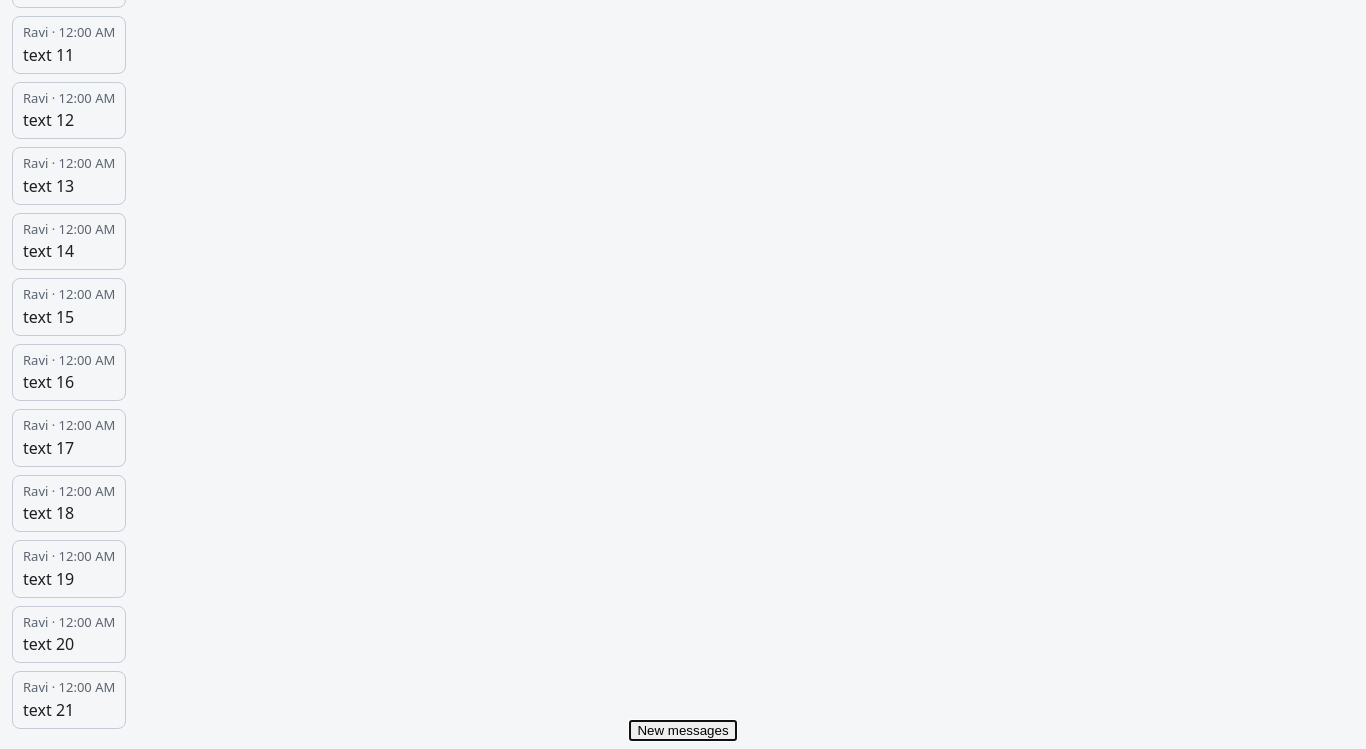
MessageList: new messages › goes to the bottom and moves the focus to the list when New messages is pressed
(page scrolled)
Click the button "New messages". click: (683, 730)
box: [629,720,736,740]
(page scrolled)
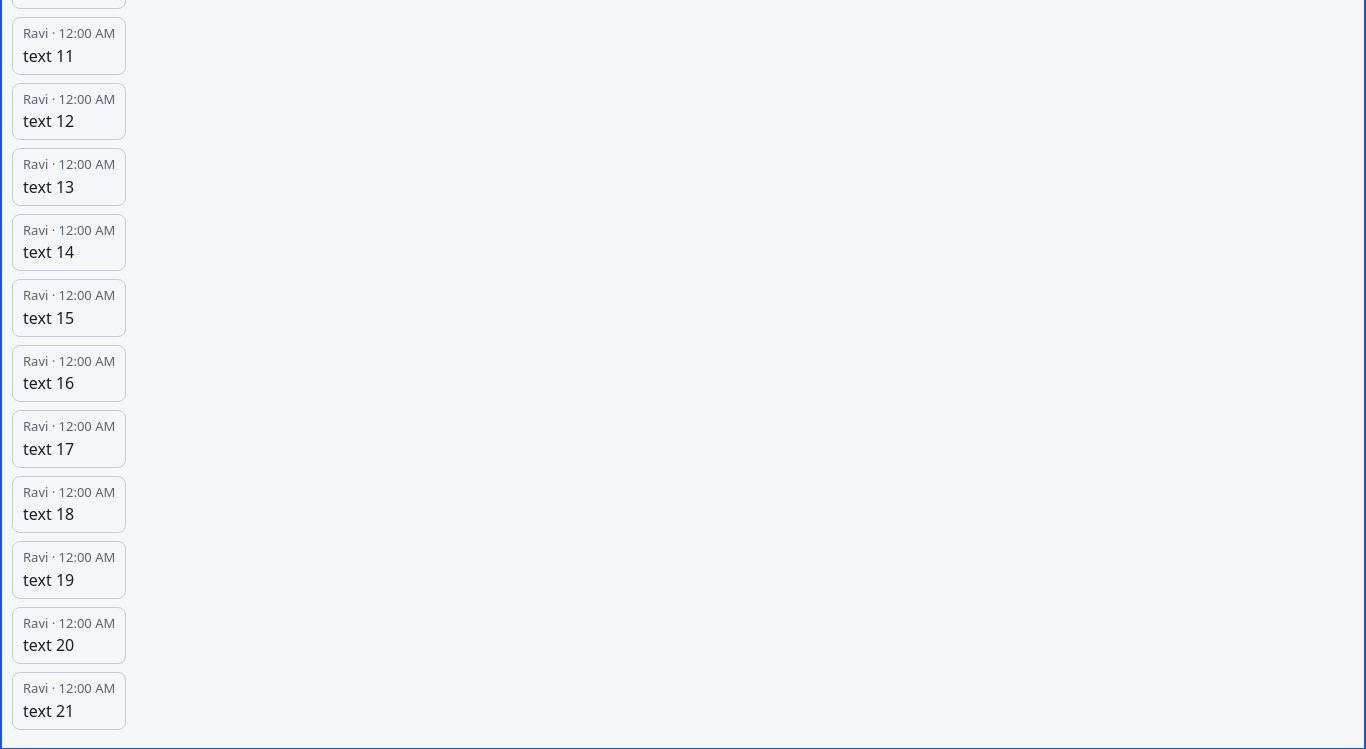
Expected: the button "New messages" is gone
